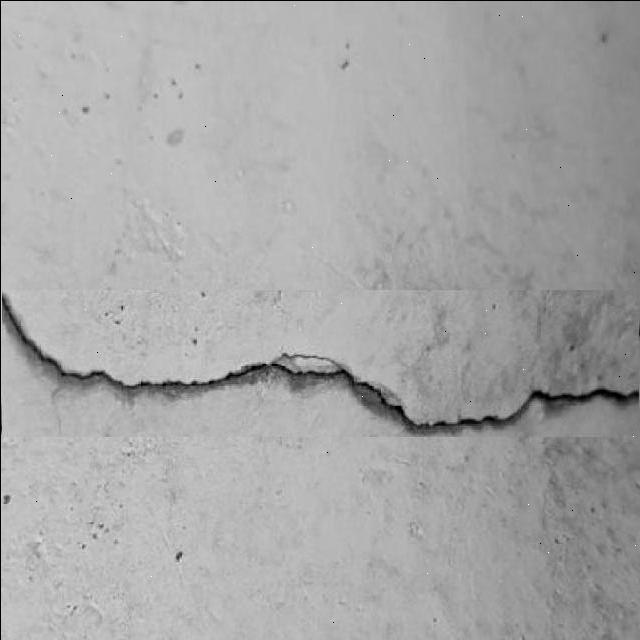crack: (9, 441, 629, 627), (1, 285, 639, 432), (146, 463, 369, 591), (24, 370, 395, 442), (14, 177, 222, 294), (8, 435, 178, 534), (12, 285, 342, 312), (48, 380, 170, 437), (46, 64, 118, 137), (112, 432, 173, 479), (230, 152, 296, 194), (77, 42, 110, 82), (108, 366, 163, 387), (76, 597, 105, 624)
dampens: (171, 357, 339, 392), (78, 368, 273, 393), (29, 363, 112, 382)
dampness: (443, 18, 640, 252), (121, 12, 181, 208)
